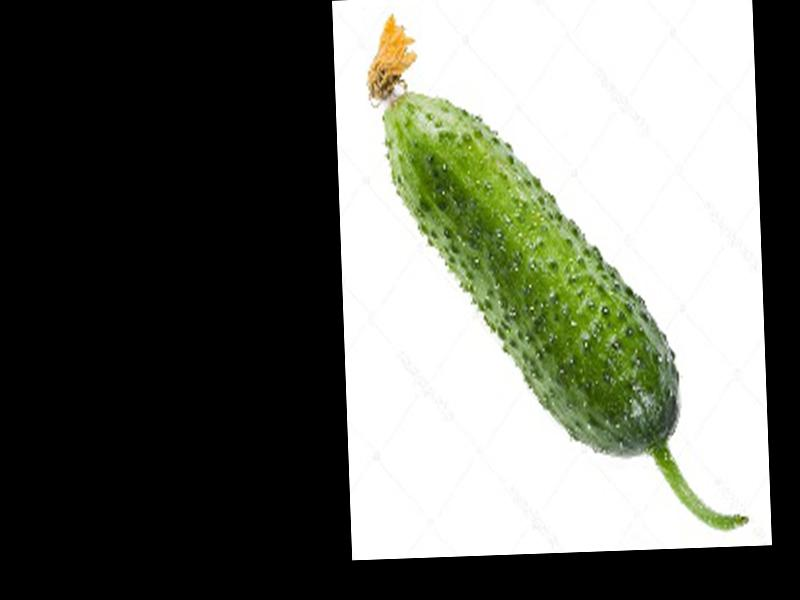Cucumber: (364, 0, 745, 541)
